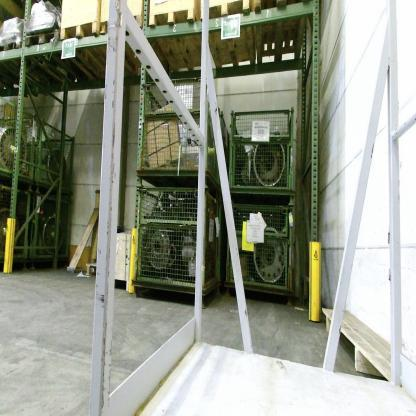pallets: (0, 1, 321, 88)
